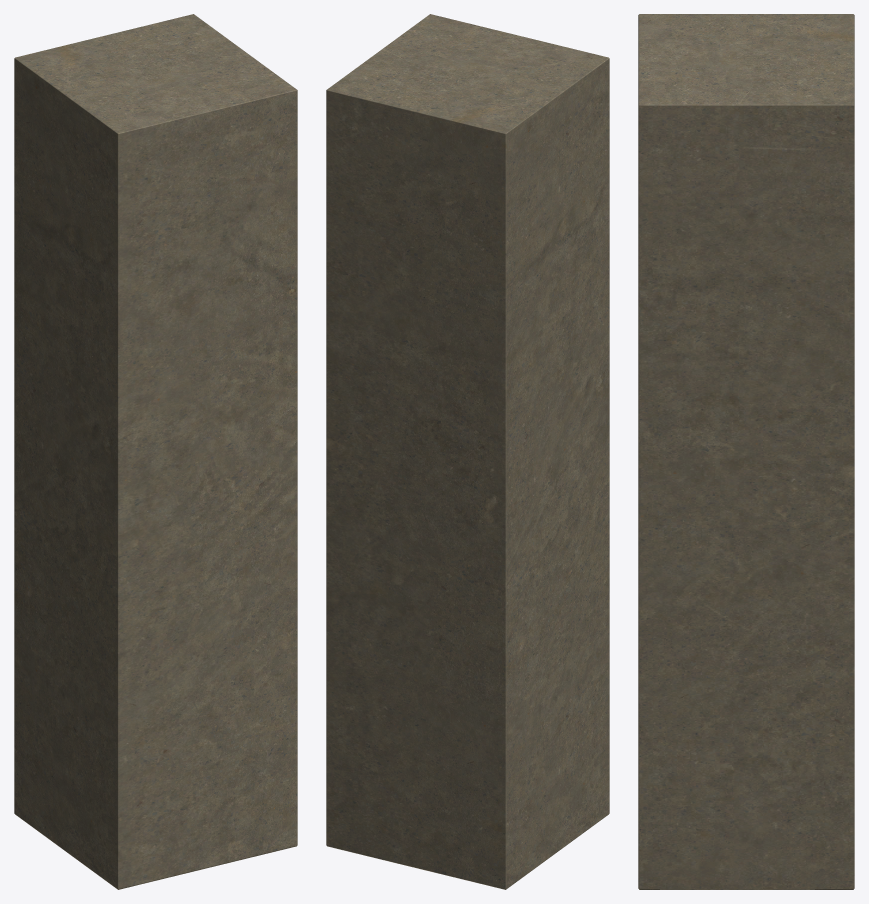
File: cP_Bench15_Straight.dae
3 views of the same model, side by side, from view 1: azimuth 30°, elevation 25°; view 2: azimuth 150°, elevation 25°; view 3: azimuth 270°, elevation 25° (orthographic). The views are drawn at different scales.
Visible parts, largest first — view 1: cP_Bench15_Straight.001; view 2: cP_Bench15_Straight.001; view 3: cP_Bench15_Straight.001.
Part boxes in pixels (box(x1,y1,x2,y2)): cP_Bench15_Straight.001: box(14, 14, 297, 889); cP_Bench15_Straight.001: box(326, 14, 609, 889); cP_Bench15_Straight.001: box(638, 14, 854, 889).
Bounding box in the file's own units: 0.5 × 0.5 × 2.
